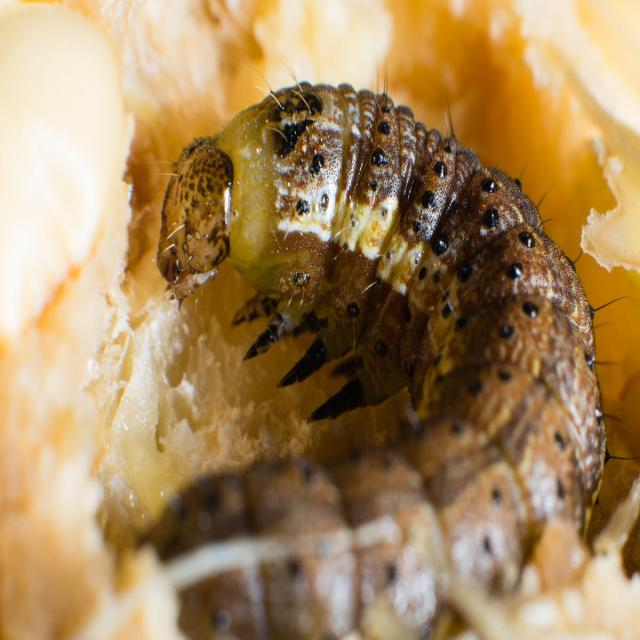Corn-earworm: (150, 70, 612, 640)
